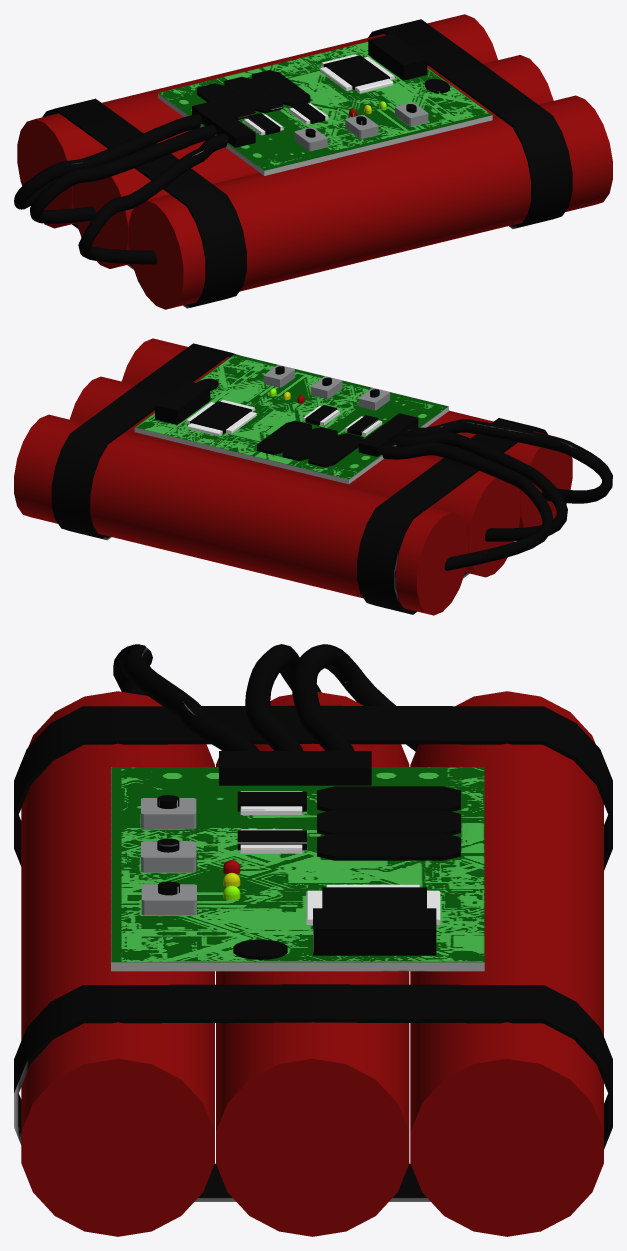
Rendered from bomb.fbx.
The picture shows the model from 3 angles, top to bottom: view 1: azimuth 30°, elevation 25°; view 2: azimuth 150°, elevation 25°; view 3: azimuth 270°, elevation 25°; orthographic projection. The views are drawn at different scales.
Parts seen in each view (by area): view 1: Bomb; view 2: Bomb; view 3: Bomb.
Boxes of the visible parts, left/top/right/bottom form: Bomb: left=14, top=14, right=612, bottom=309; Bomb: left=14, top=338, right=612, bottom=615; Bomb: left=14, top=644, right=612, bottom=1236.
Size of the model in its own units: 23.84 by 5.75 by 14.04.
Materials: 1 (1 with a texture image).
